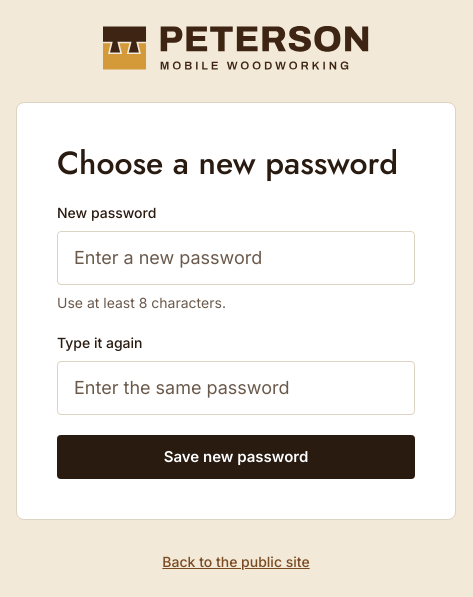
ResetPasswordPage › shows the weak-password error on the new password field
Type "new-password-123" into the password field labelled "New password" at (236, 258), box [57,231,415,285]
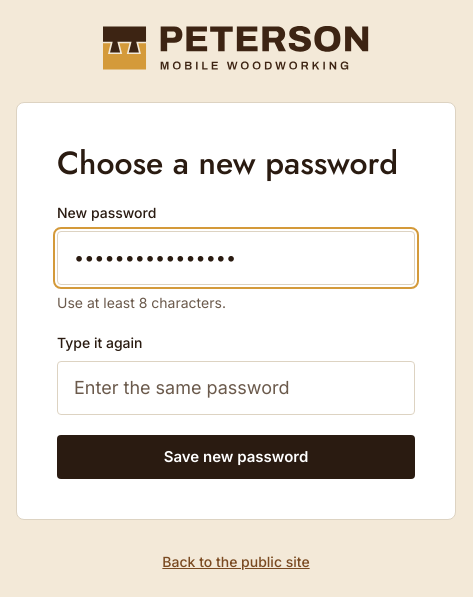
Type "new-password-123" into the password field labelled "Type it again" at (236, 388), box [57,361,415,415]
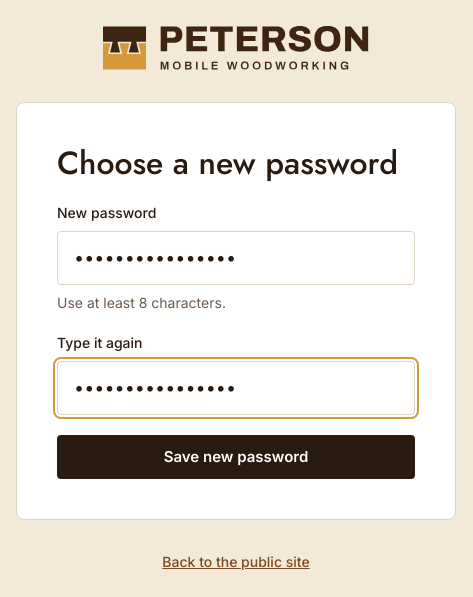
Click the button "Save new password" at (236, 457), box [57,435,415,479]
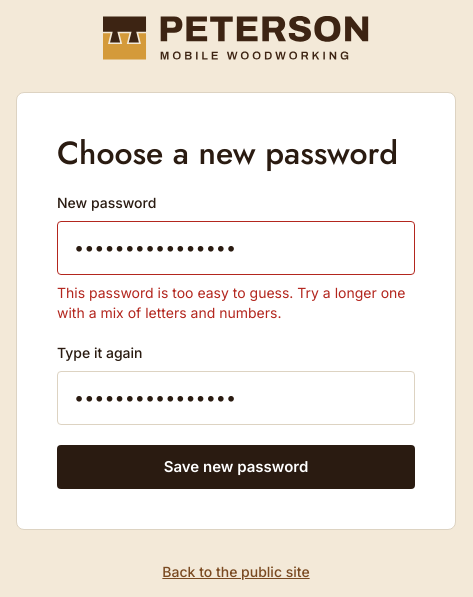
Result: the text "This password is too easy to guess. Try a longer one with a mix of letters and numbers." is shown at [57,284,406,321]
